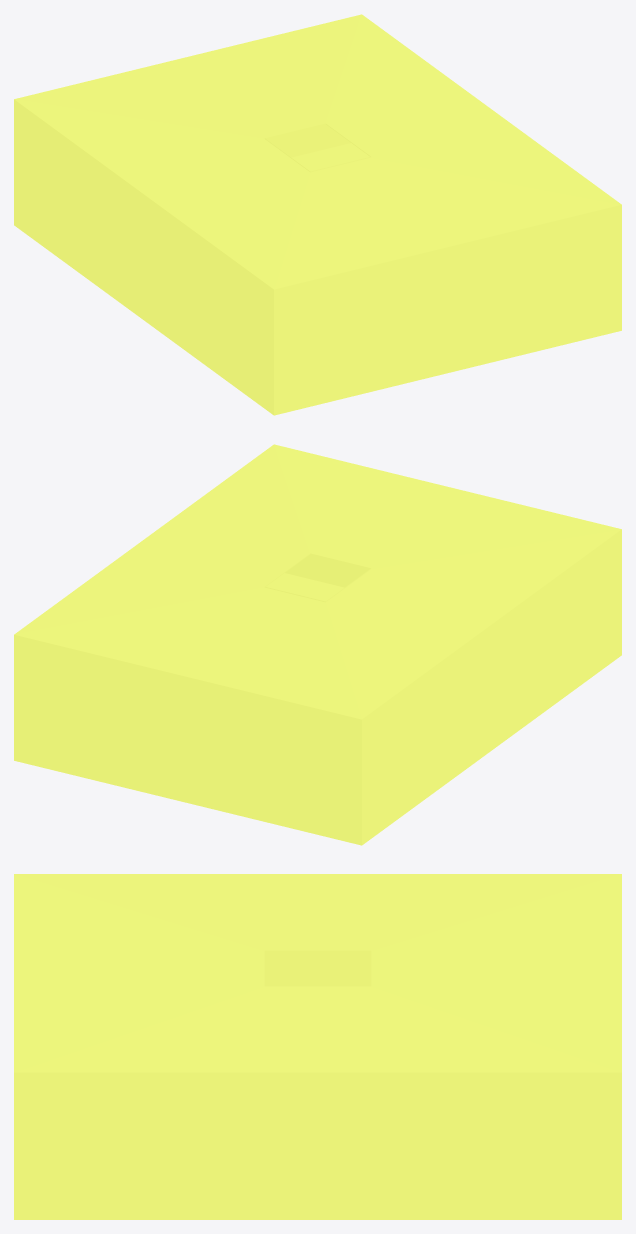
The model's file is bitchesCard.gltf.
3 renders of one model, top to bottom at view 1: azimuth 30°, elevation 25°; view 2: azimuth 150°, elevation 25°; view 3: azimuth 270°, elevation 25°, orthographic. The views are drawn at different scales.
Visible parts, largest first — view 1: Plane.003; view 2: Plane.003; view 3: Plane.003.
Part boxes in pixels (left/top/right/bottom): Plane.003: left=14, top=14, right=621, bottom=415; Plane.003: left=14, top=444, right=621, bottom=845; Plane.003: left=14, top=874, right=621, bottom=1219.
Bounding box in the file's own units: 4.32 × 1.55 × 5.6.
